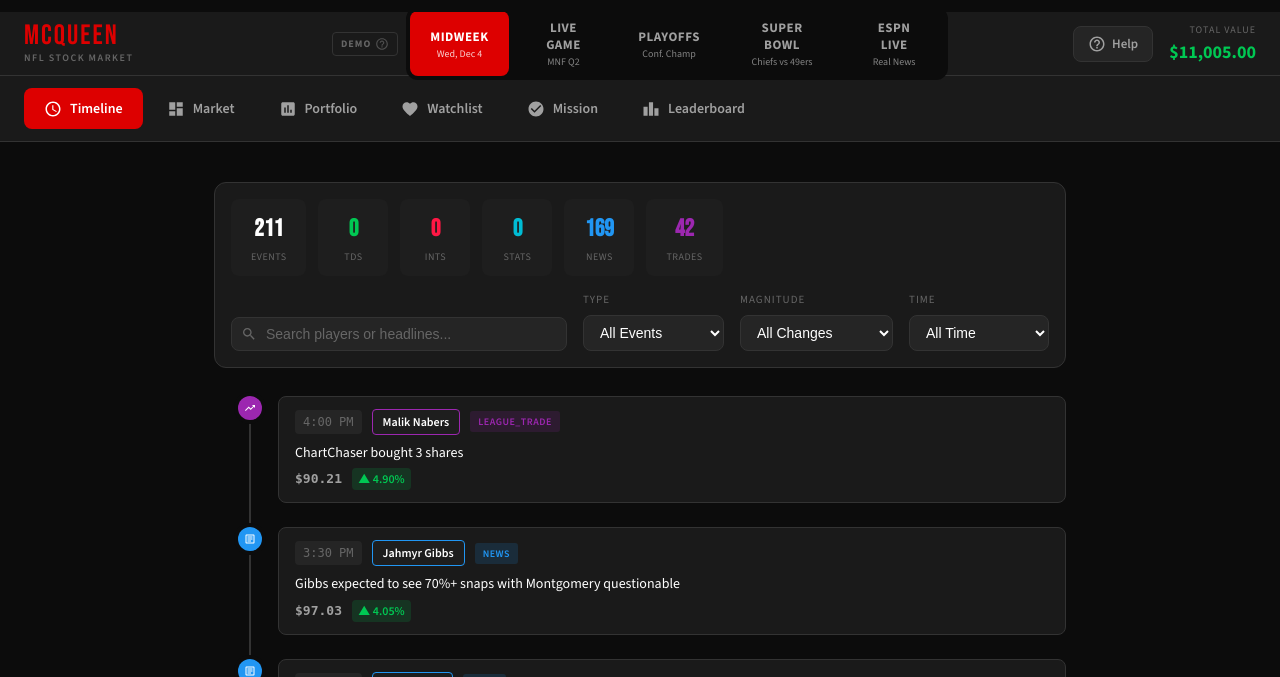
Test case: Timeline Page › buys shares from the timeline
Click the element with test id "timeline-event" that starts with "4:00 PM" at {"x": 652, "y": 450}, box x1=238 y1=384 x2=1066 y2=516
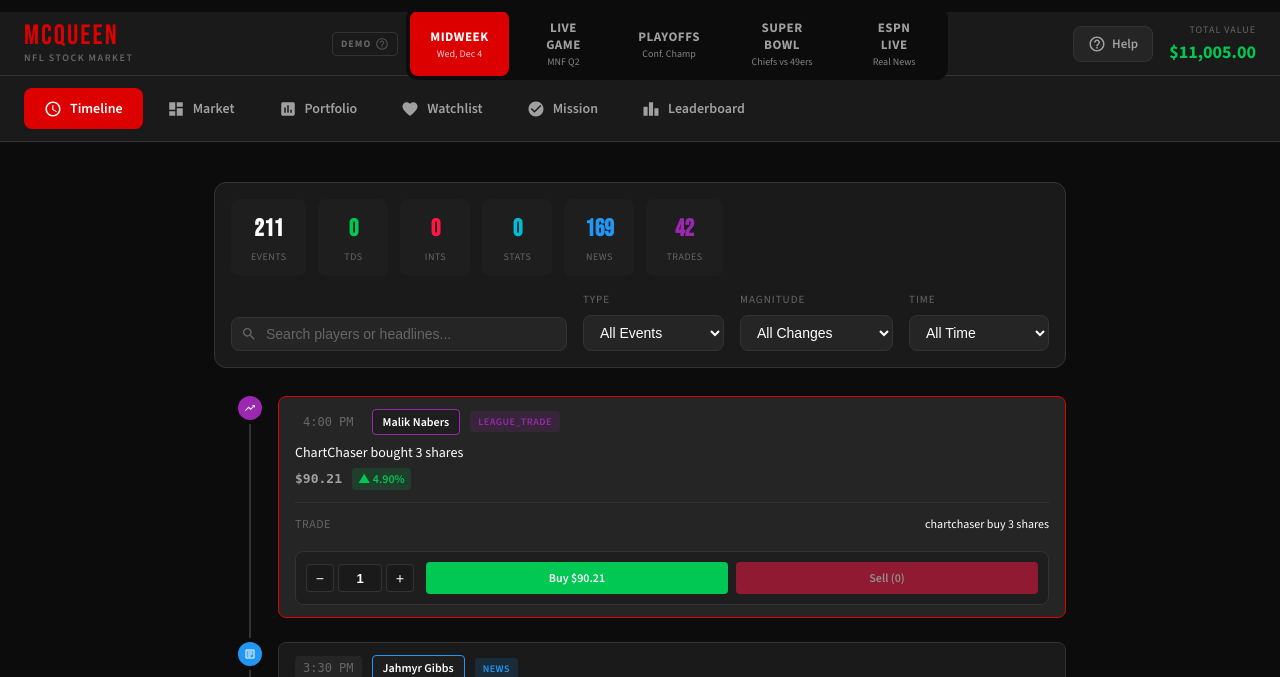
Now the element with test id "inline-trade-widget" is shown, box x1=295 y1=551 x2=1049 y2=605
Click the button "Buy $90.21" at {"x": 577, "y": 578}, box x1=426 y1=562 x2=728 y2=594
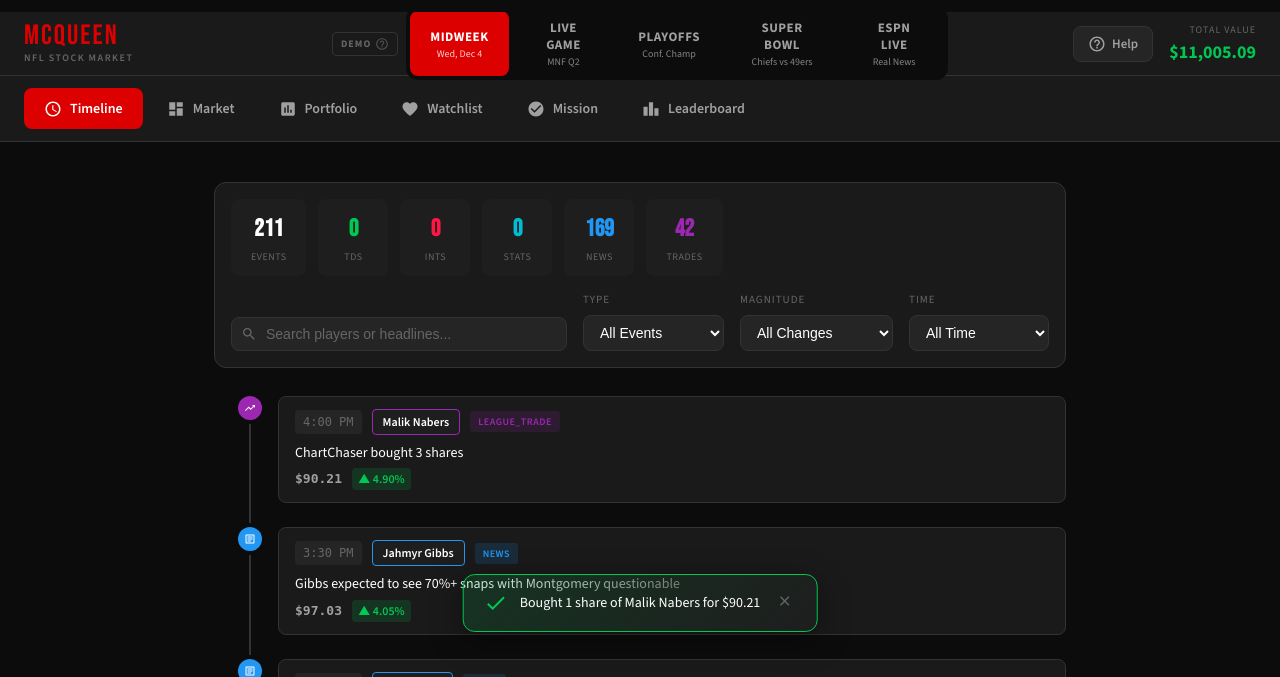
Now the element with test id "toast" is shown, box x1=463 y1=574 x2=818 y2=632
